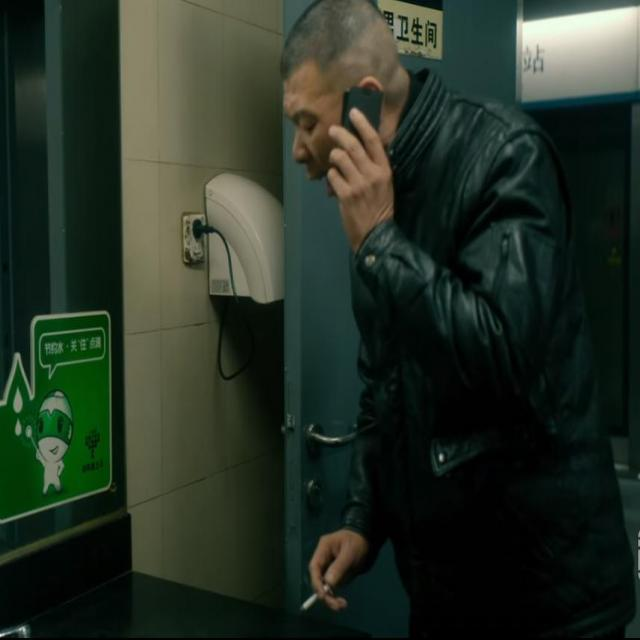smoke: (297, 579, 333, 616)
